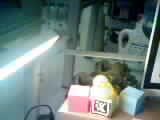duck: (78, 75, 118, 101)
